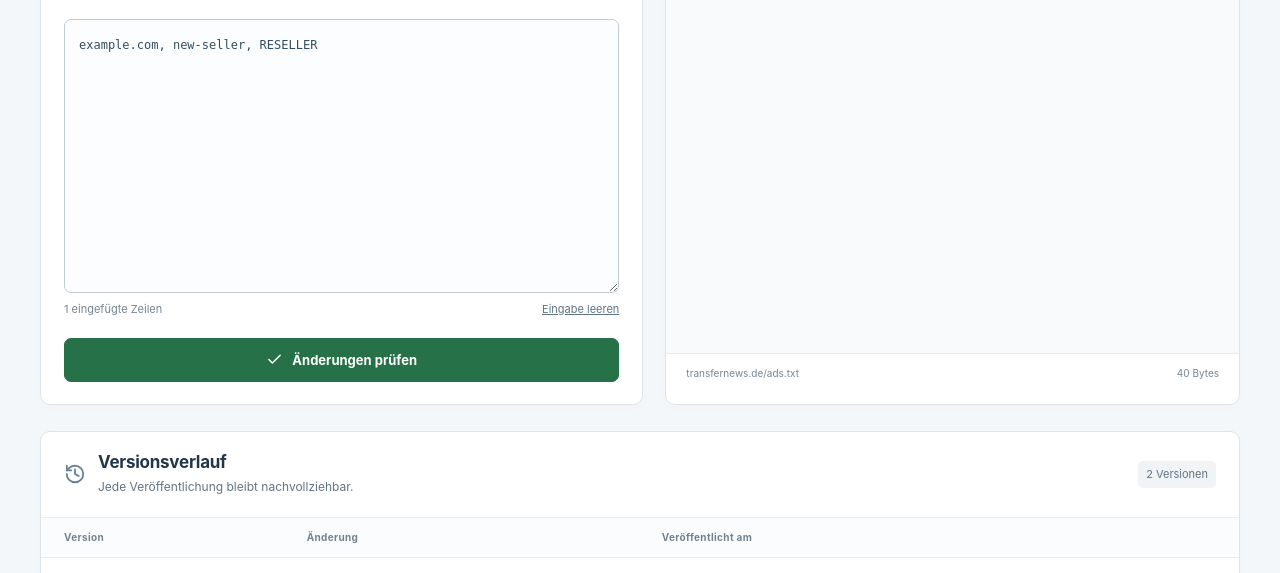
a concurrent revision prevents reuse of the preview and keeps the paste on refresh
The image size is (1280, 573).
Later steps or results of the test are not shown.
(page scrolled)
Click the button "Änderungen prüfen". click: (342, 360)
box: [64,338,619,382]
(page scrolled)
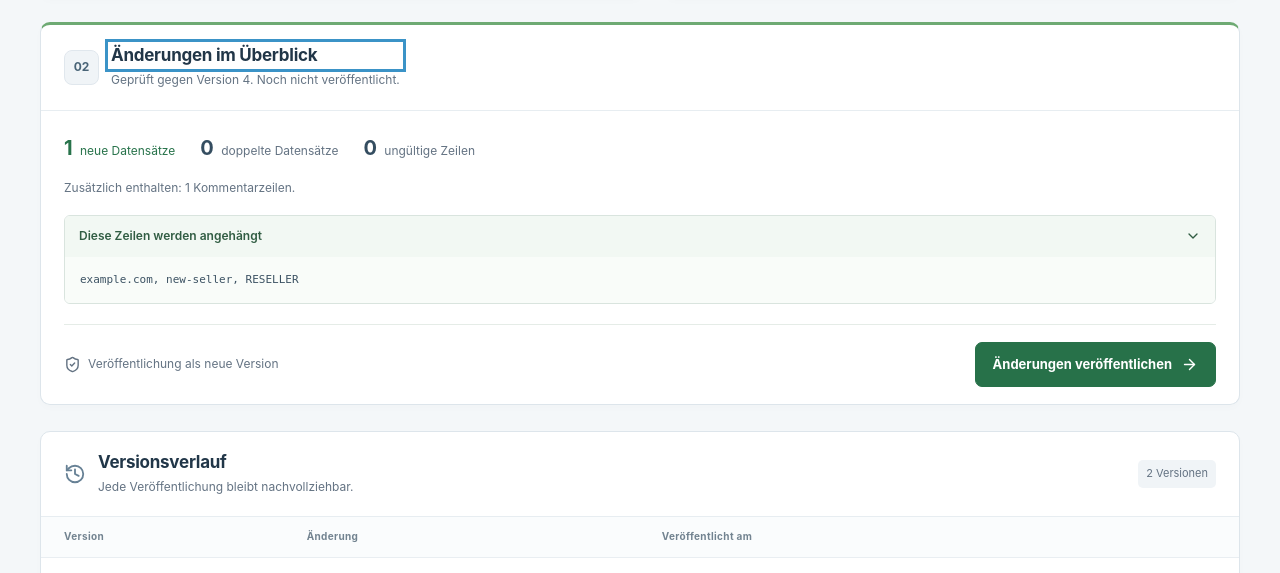
Click the button "Änderungen veröffentlichen". click: (1095, 365)
box: [975,342,1216,387]
(page scrolled)
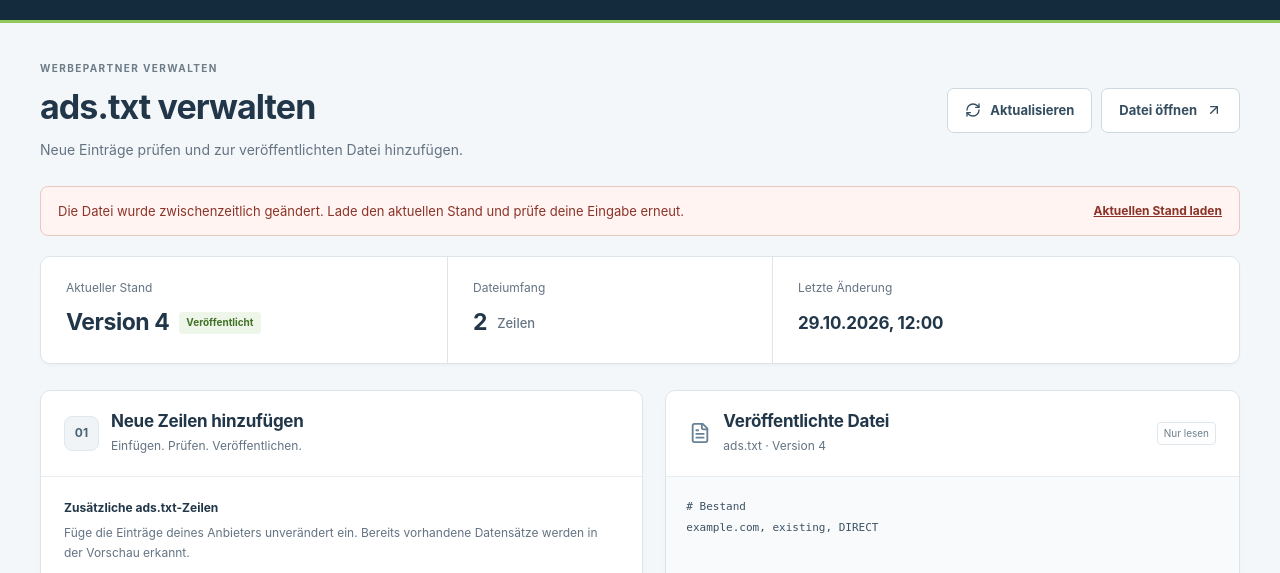
Expected: the text "zwischenzeitlich geändert" is shown, [58,203,684,219]
